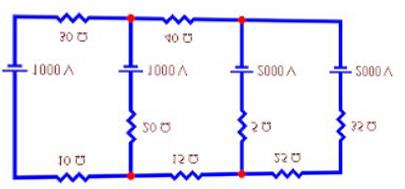Battery: (325, 52, 349, 85)
